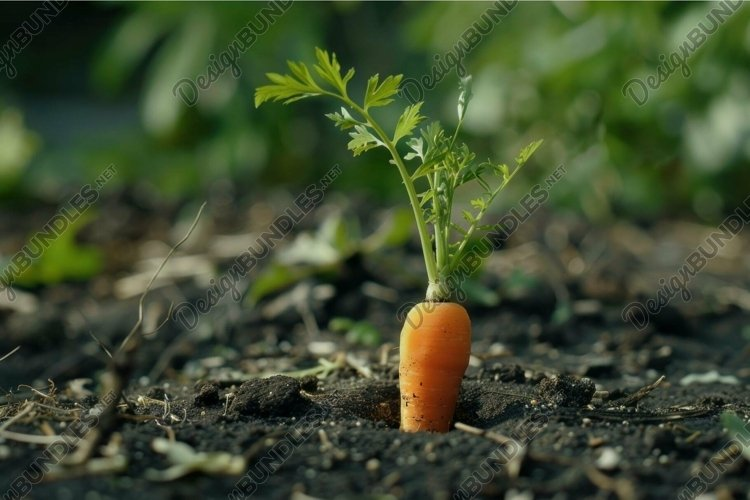carrot: (257, 58, 557, 461)
